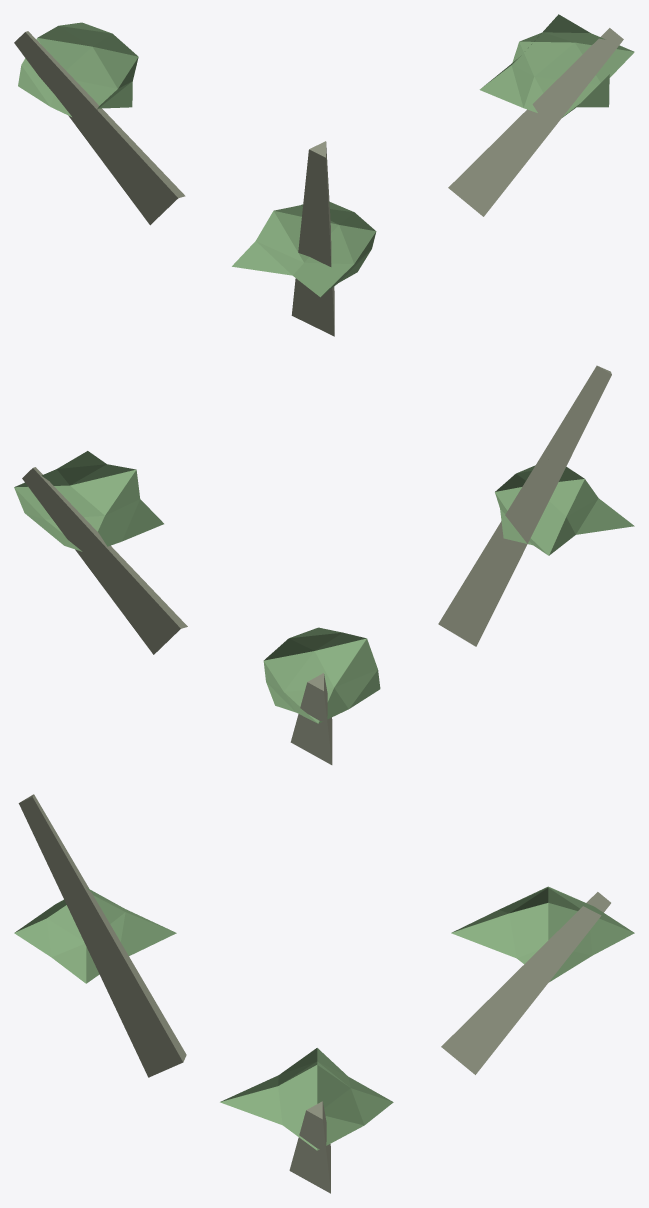
File: bramble_v20.glb
3 views of the same model, one above another, from view 1: azimuth 30°, elevation 25°; view 2: azimuth 150°, elevation 25°; view 3: azimuth 270°, elevation 25° (orthographic). The views are drawn at different scales.
Parts seen in each view (by area): view 1: lod0; view 2: lod0; view 3: lod0.
Part boxes in pixels (x1,y1,x2,y2): lod0: (14, 14, 634, 336); lod0: (14, 365, 634, 764); lod0: (14, 794, 634, 1193).
Size of what is drawn, in the model's own units: 0.5264 by 0.2511 by 0.5587.
